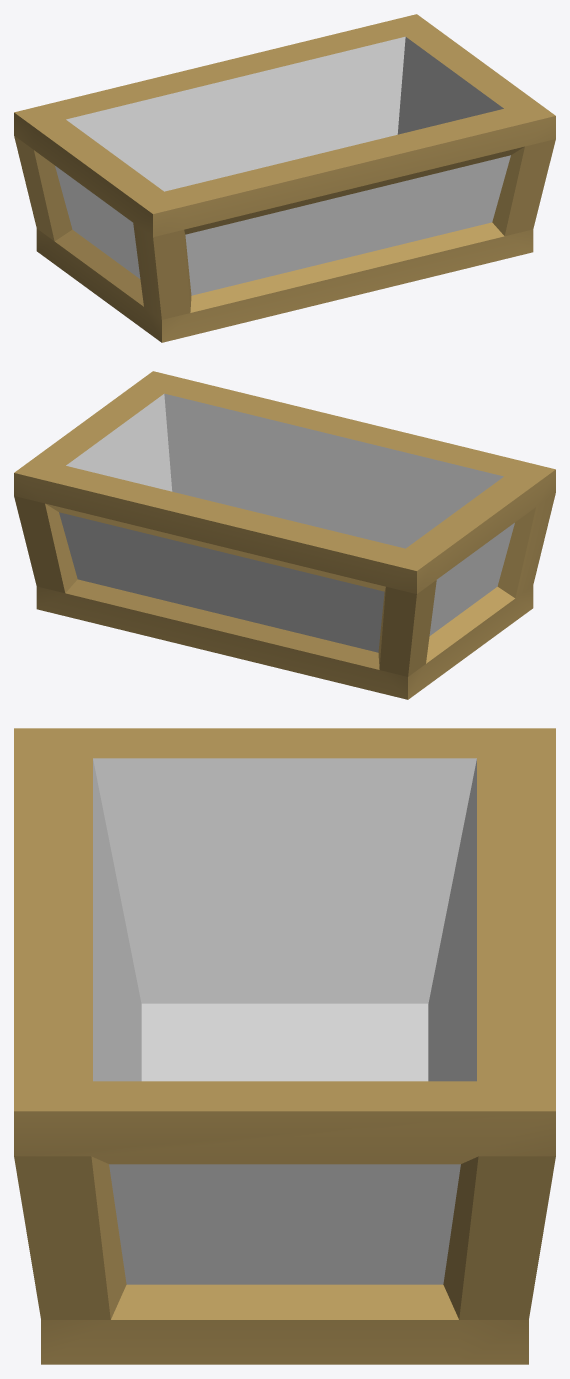
File: kaykit-chest-rare.glb
The picture shows the model from 3 angles, top to bottom: view 1: azimuth 30°, elevation 25°; view 2: azimuth 150°, elevation 25°; view 3: azimuth 270°, elevation 25°; orthographic projection. The views are drawn at different scales.
Visible parts, largest first — view 1: chest_rare; view 2: chest_rare; view 3: chest_rare.
Part boxes in pixels (x1,y1,x2,y2): chest_rare: (14, 14, 555, 342); chest_rare: (14, 371, 555, 699); chest_rare: (14, 728, 555, 1364).
Bounding box in the file's own units: 1.84 × 0.6007 × 1.1.
